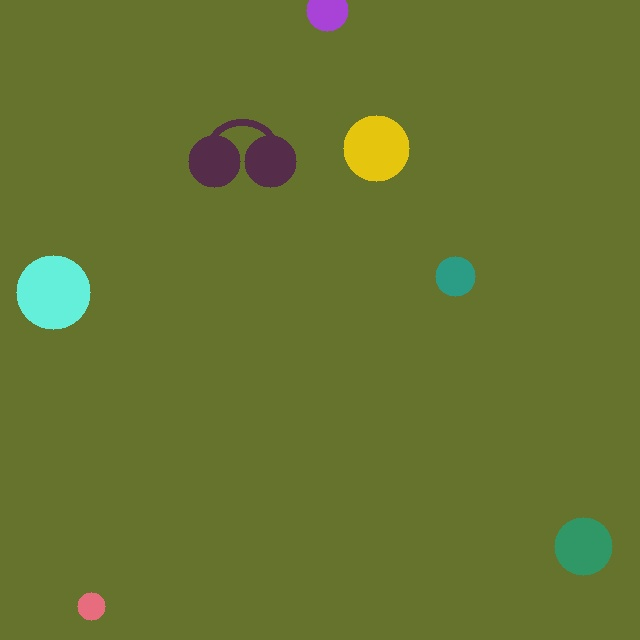over_ear: (184, 113, 300, 191)
